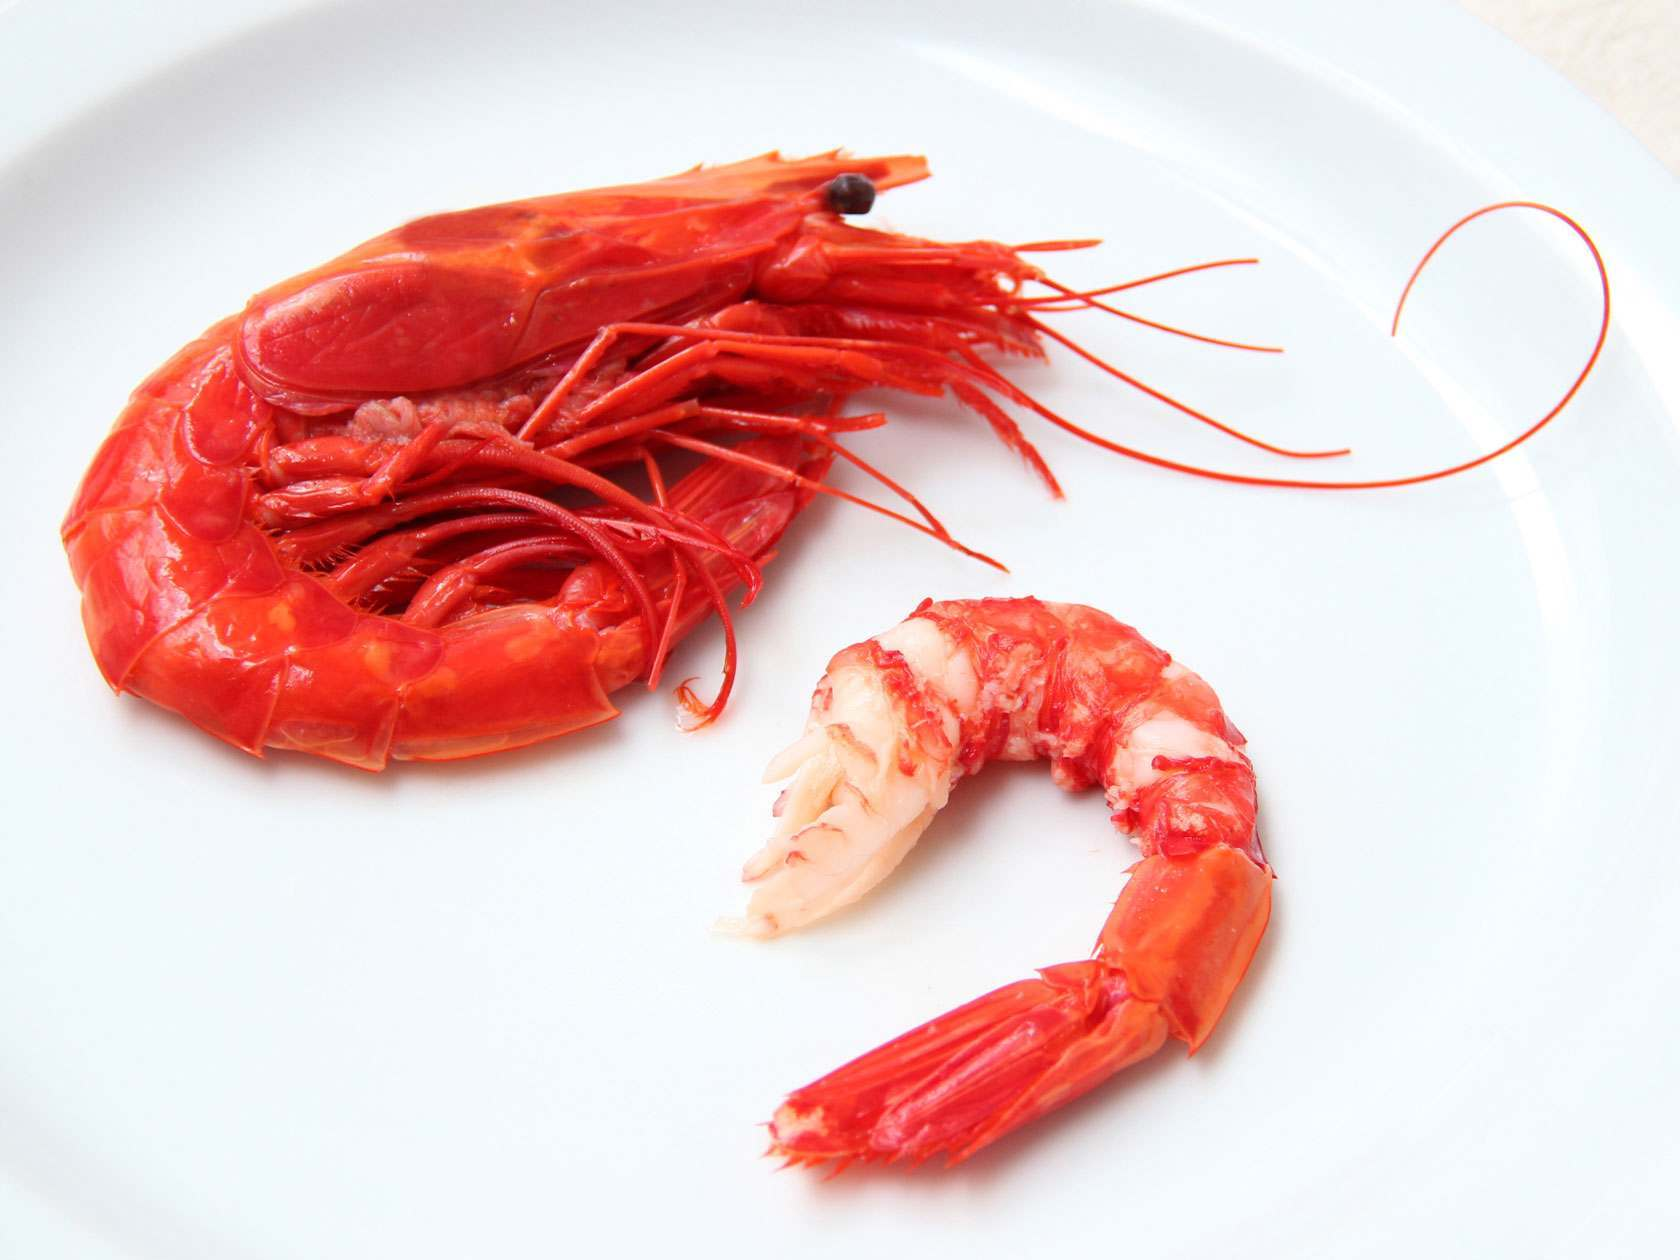Red Prawn: (48, 146, 886, 772), (758, 592, 1284, 1187)
